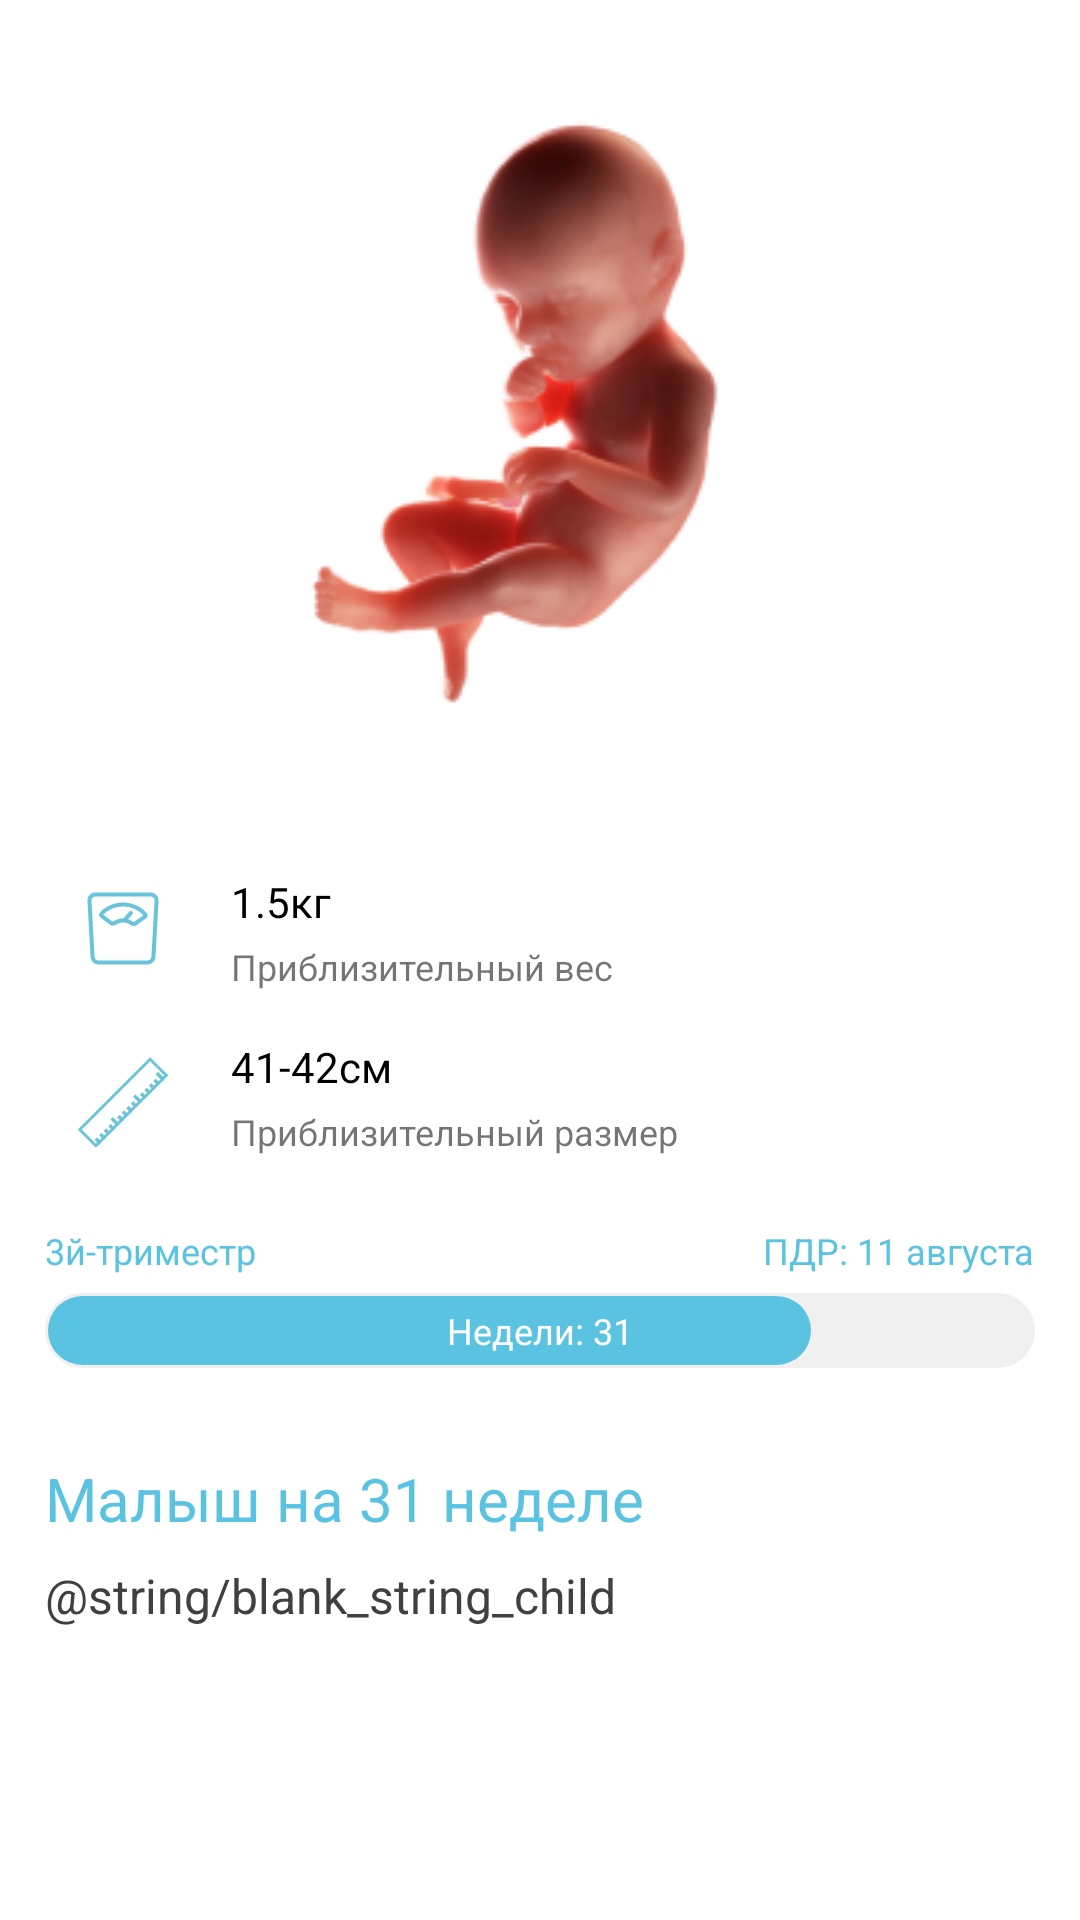

Screen size 1080×1920. Icon name, then its center in pixels as point (x, y):
medical weight: point (123, 928)
size: point (123, 1102)
